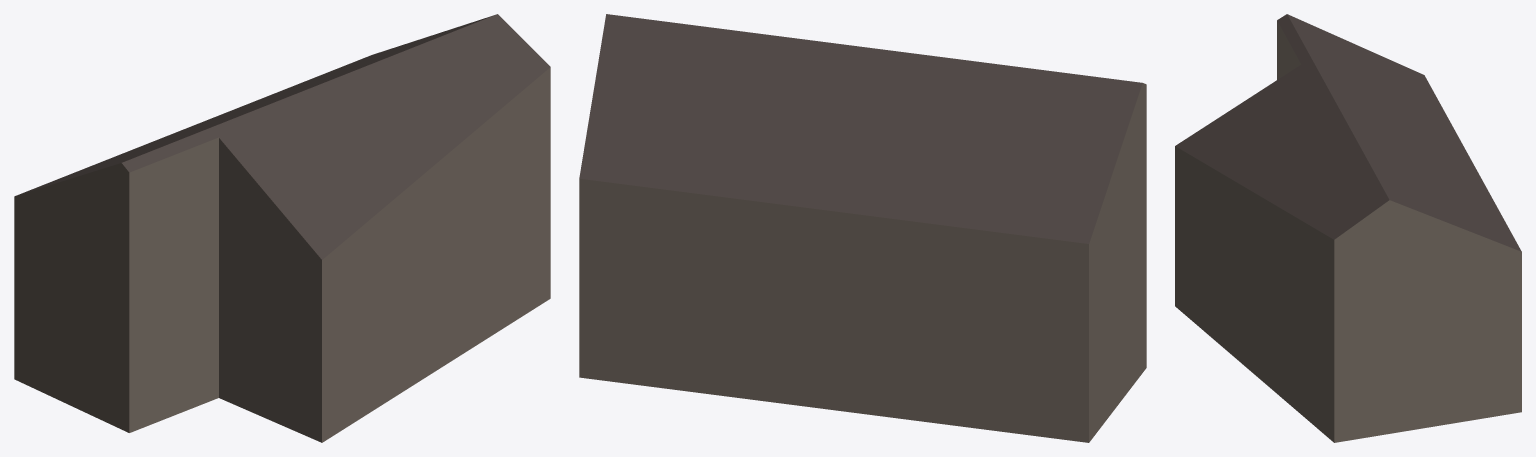
3 views of the same model, side by side, from view 1: azimuth 30°, elevation 25°; view 2: azimuth 150°, elevation 25°; view 3: azimuth 270°, elevation 25° (orthographic). The views are drawn at different scales.
Parts seen in each view (by area): view 1: HP-w1198845815; view 2: HP-w1198845815; view 3: HP-w1198845815.
Part boxes in pixels (x1,y1,x2,y2): HP-w1198845815: (14, 14, 550, 442); HP-w1198845815: (579, 14, 1146, 442); HP-w1198845815: (1175, 14, 1521, 442).
Size of the model in its own units: 16.66 by 8.75 by 11.76.
